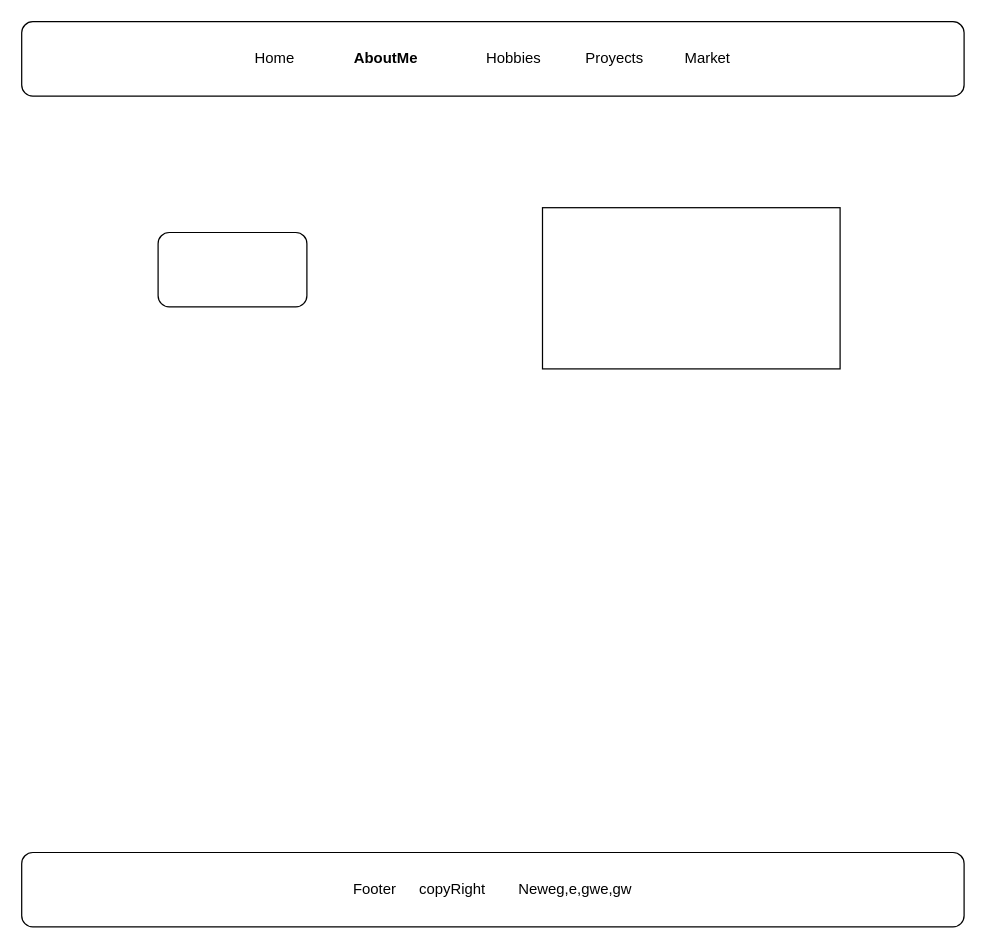
The diagram is 986 pixels wide and 949 high, and some of its shapes have lost their labels. Here are the shapes that lost their labels. From the top down, the centre of each, then its label:
At point 232,269: "Running".
At point 690,287: "Photo".
